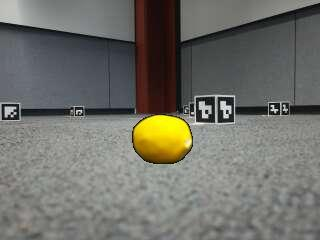lemon: (133, 116, 192, 164)
